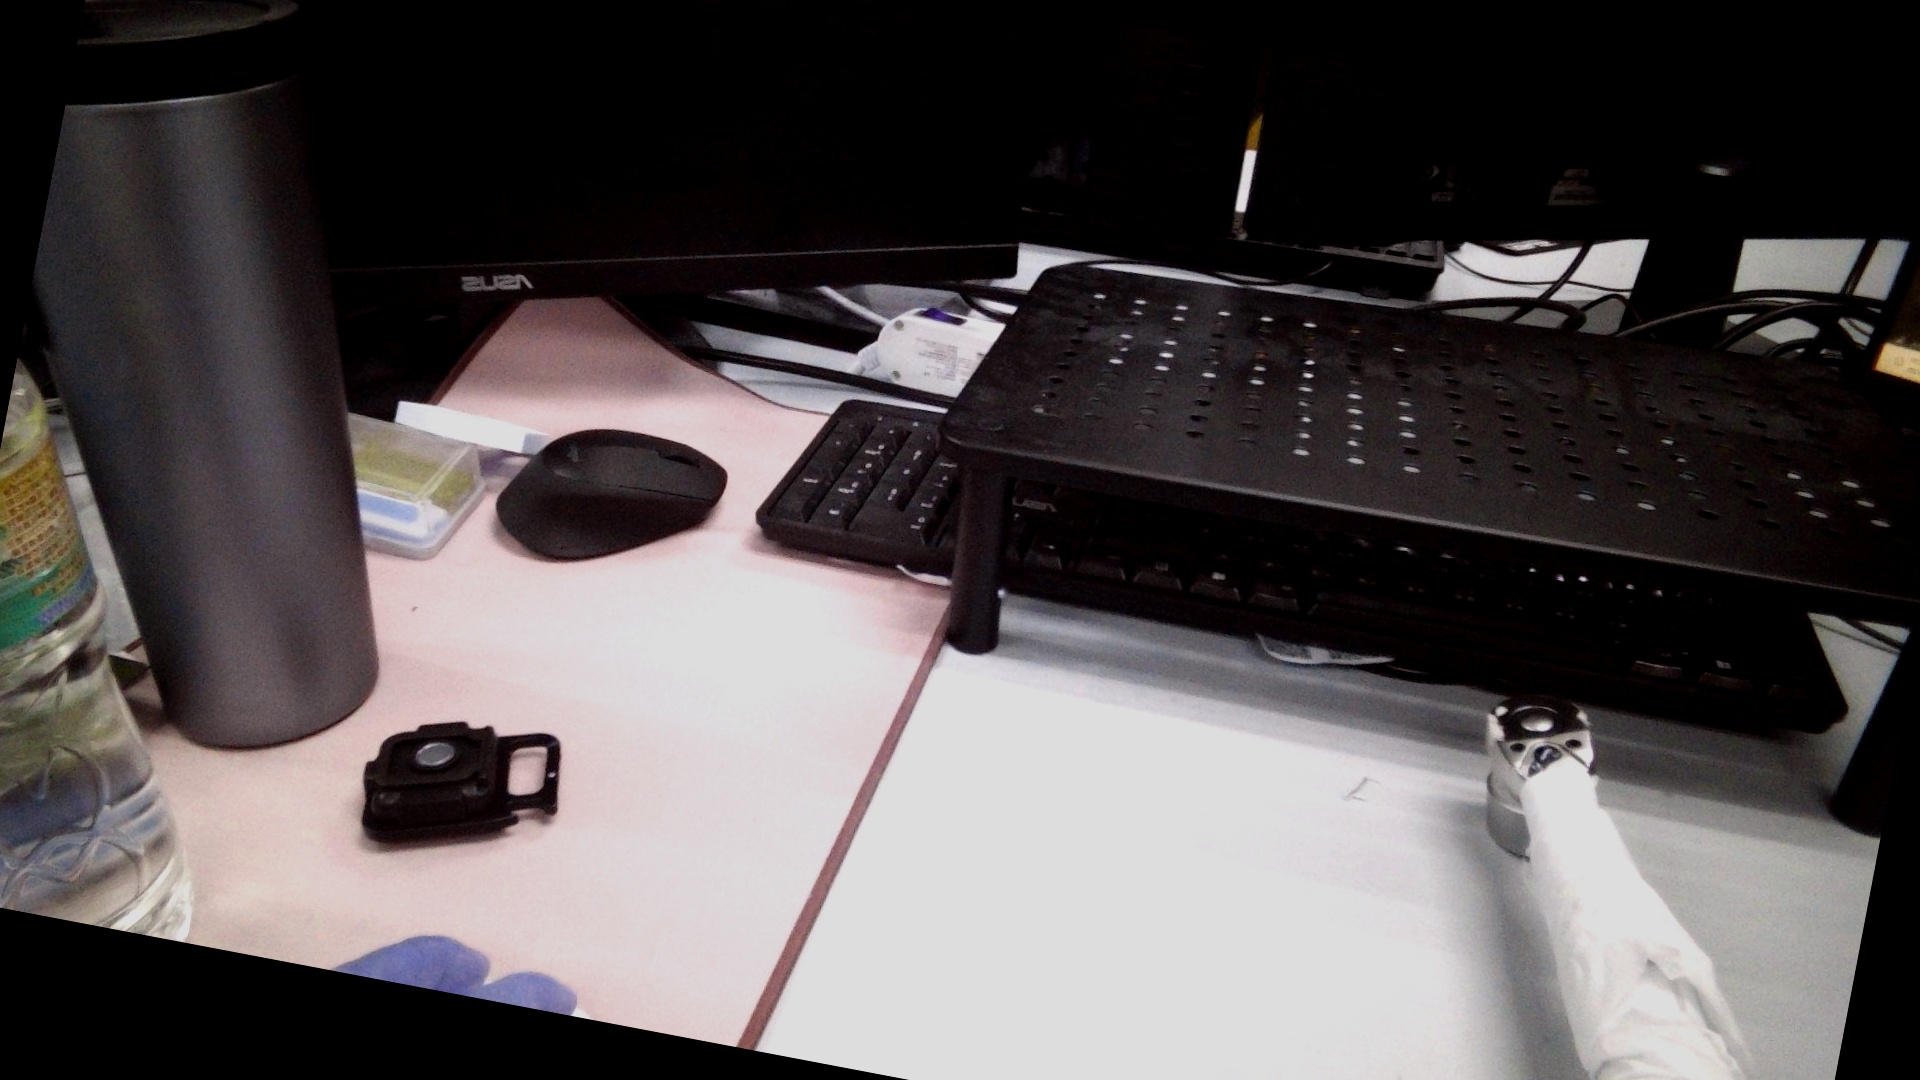wrench: (1503, 698, 1573, 750)
